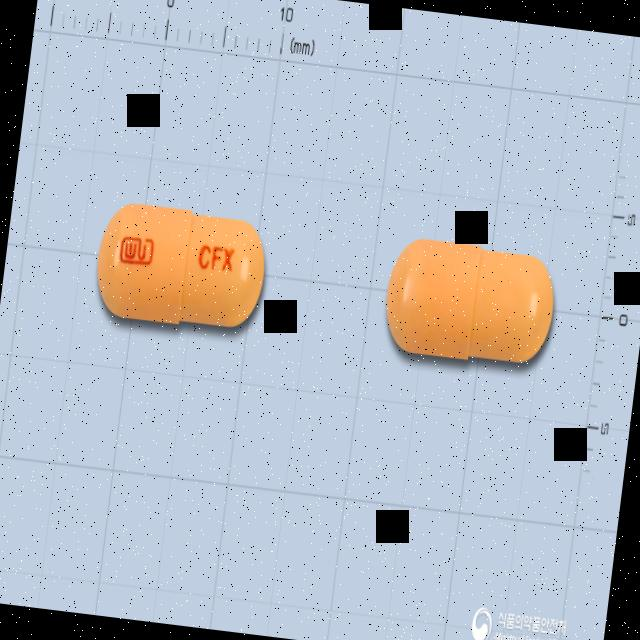Cefixime Cap- Withus: (87, 194, 276, 346)
